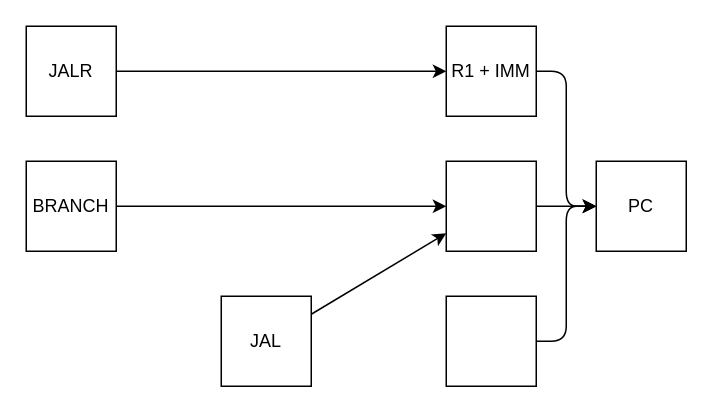
Image size: 713x413. Some labels were removed from this diagram. The centre of each missing label's shape, as x and y in pixels:
PC + 4: the point at 490,340
PC + IMM: the point at 490,205
